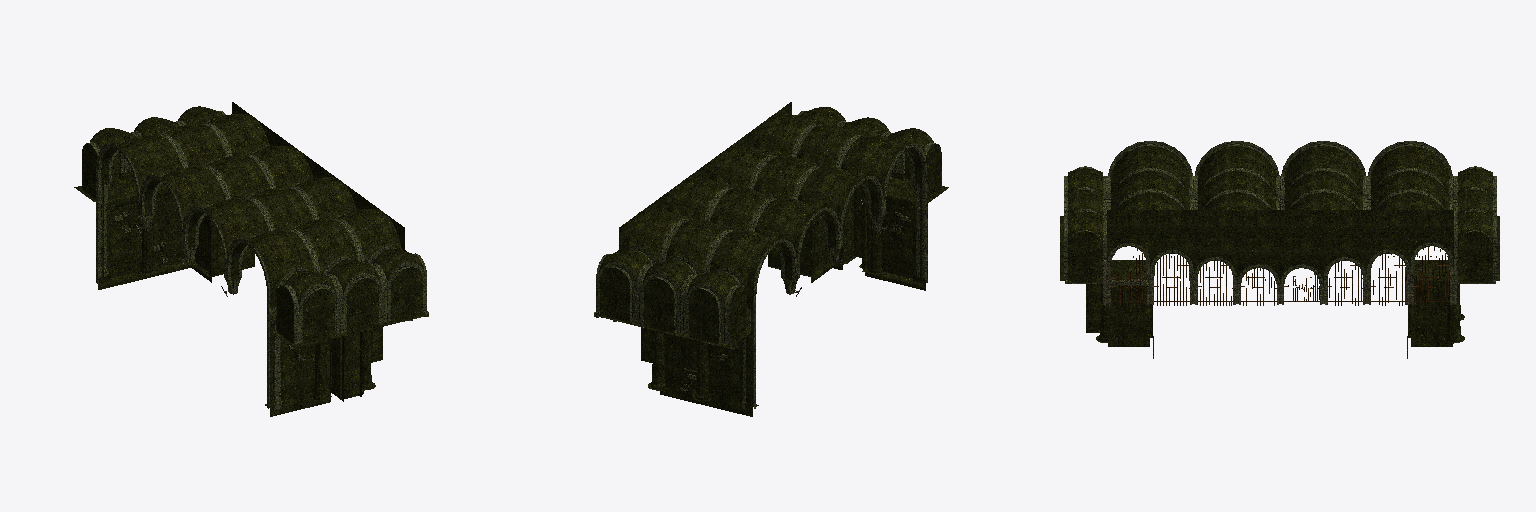
3 renders of one model, left to right at view 1: azimuth 30°, elevation 25°; view 2: azimuth 150°, elevation 25°; view 3: azimuth 270°, elevation 25°, orthographic.
Visible parts, largest first — view 1: mesh8, mesh4, mesh3, mesh6, mesh9; view 2: mesh8, mesh4, mesh6, mesh3, mesh9; view 3: mesh8, mesh4, mesh7, mesh9, mesh1, mesh3.
Part boxes in pixels (x1,y1,x2,y2): mesh8: (82, 102, 424, 416); mesh4: (86, 111, 428, 409); mesh3: (107, 185, 382, 401); mesh6: (93, 171, 381, 405); mesh9: (74, 178, 428, 399); mesh8: (599, 102, 941, 416); mesh4: (594, 111, 935, 408); mesh6: (648, 172, 928, 406); mesh3: (641, 188, 928, 392); mesh9: (595, 179, 948, 348); mesh8: (1068, 146, 1492, 346); mesh4: (1064, 141, 1496, 303); mesh7: (1111, 247, 1449, 305); mesh9: (1060, 216, 1499, 280); mesh1: (1102, 261, 1456, 305); mesh3: (1060, 242, 1448, 337).
Size of the model in its own units: 11.19 by 11.07 by 27.48.
Materials: 10 (7 with a texture image).